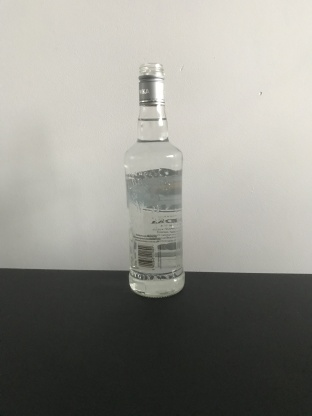nakretka: (137, 61, 166, 107)
